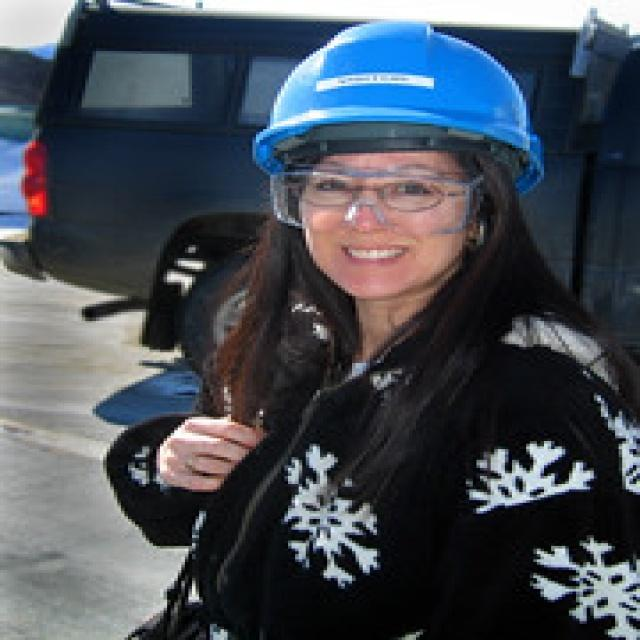helmet: (249, 22, 537, 262)
